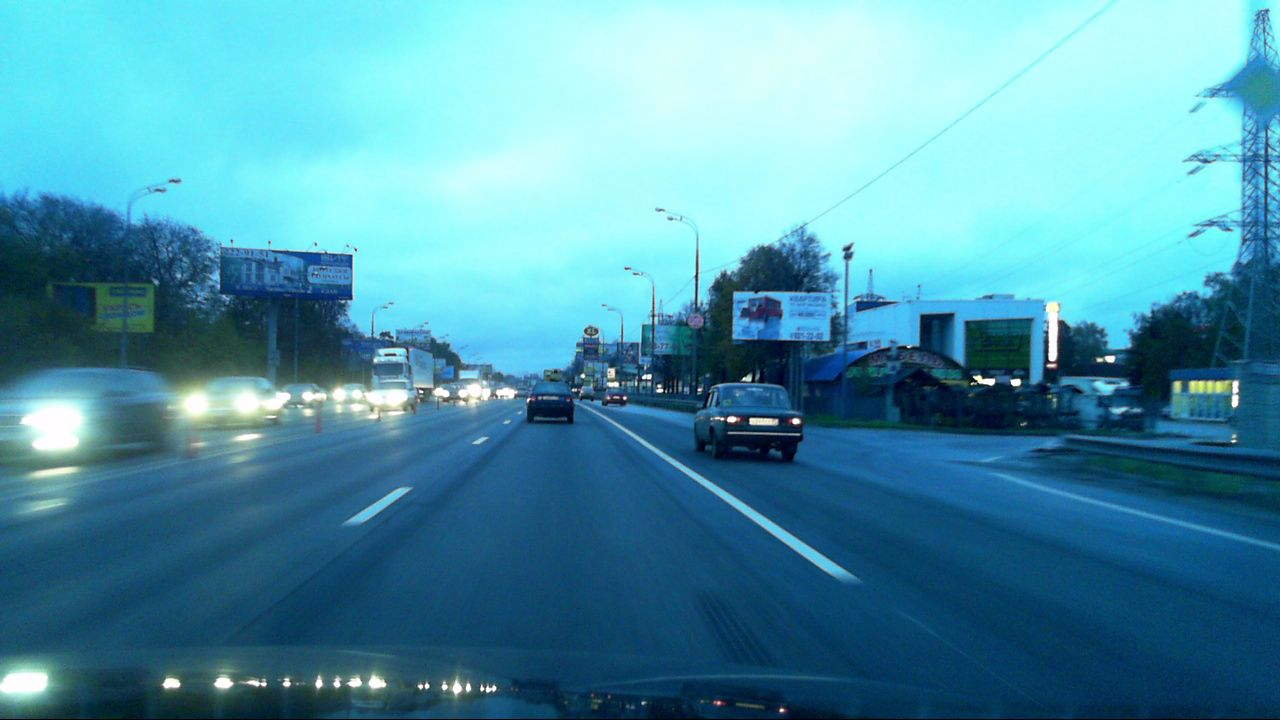No Parking: (686, 313, 703, 330)
